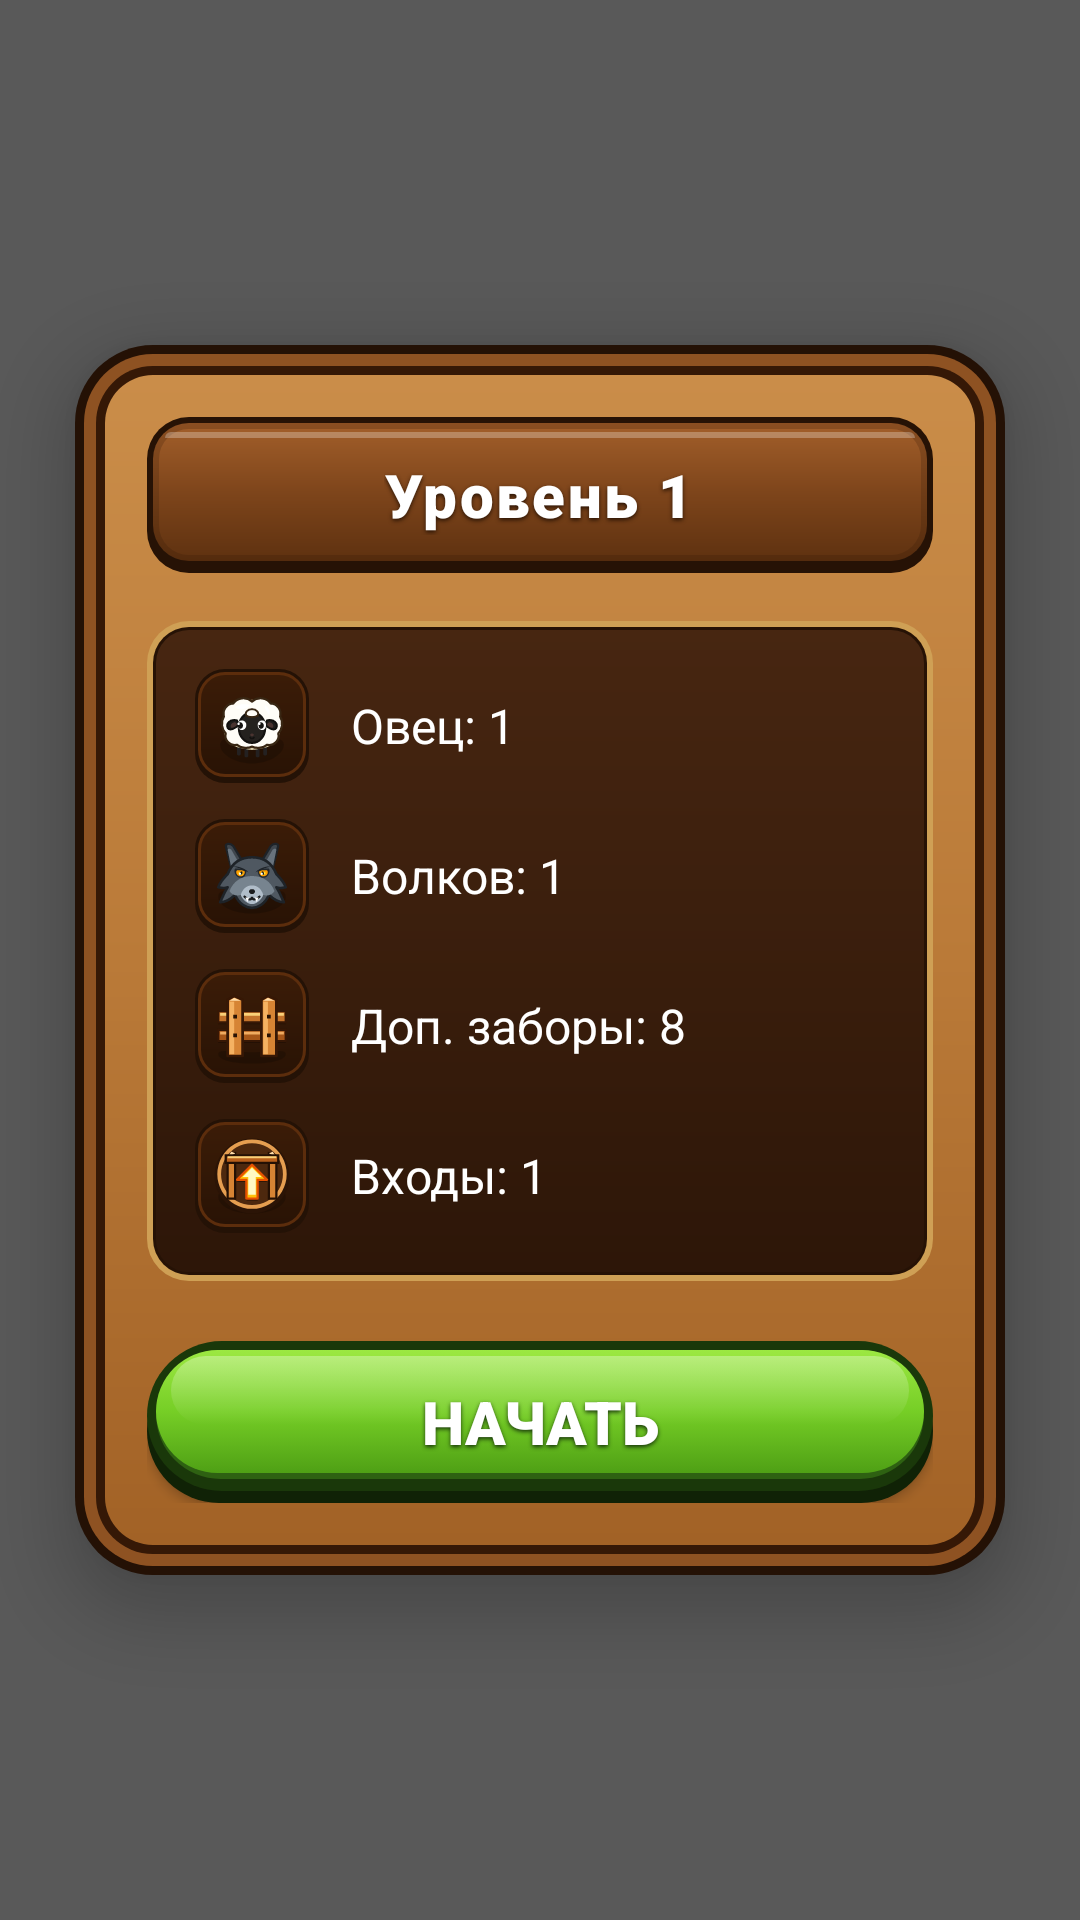

Icons on this 1080 x 1920 Android screen, each with the point to tap as (x=x, y=y):
Волки: (x=252, y=876)
Овцы: (x=252, y=728)
